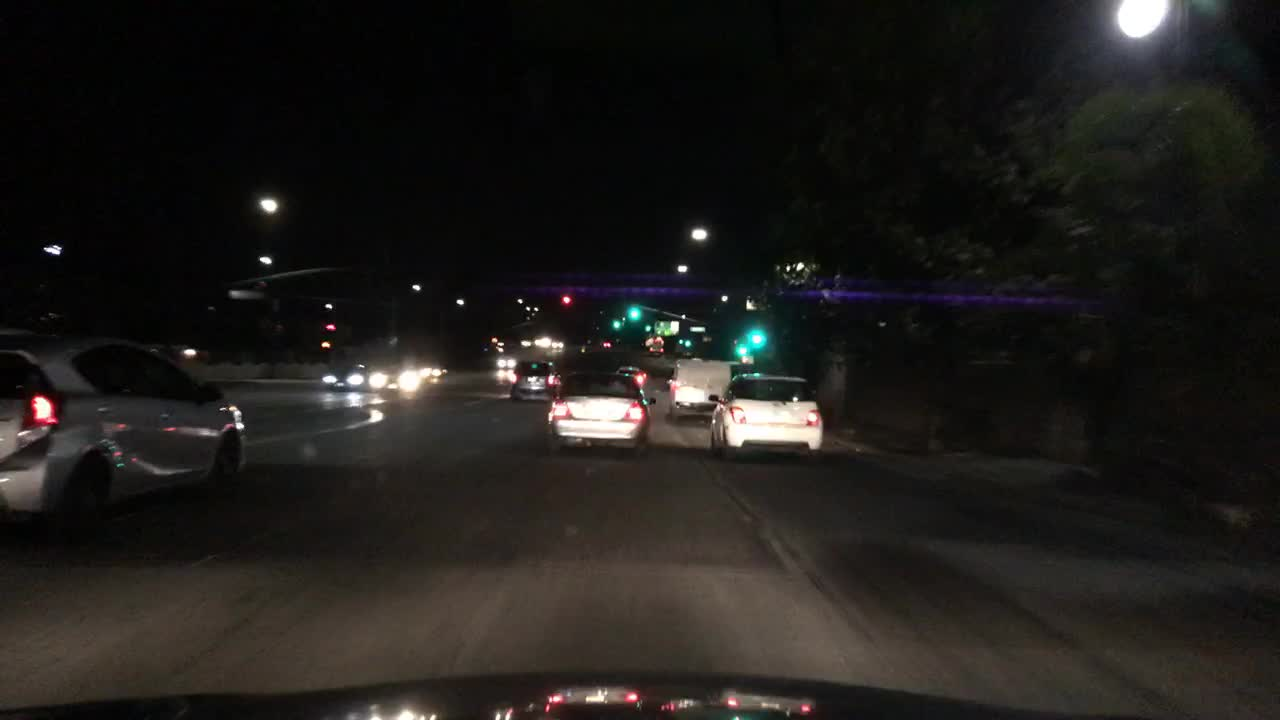car: (0, 327, 249, 544), (706, 372, 823, 459), (544, 369, 657, 457), (665, 356, 731, 427), (507, 356, 563, 404), (369, 365, 423, 391), (323, 361, 369, 389), (614, 363, 647, 385), (496, 354, 517, 372), (425, 362, 447, 379), (647, 337, 666, 356), (482, 336, 503, 352), (532, 336, 552, 347), (550, 339, 564, 348), (600, 339, 612, 348), (520, 339, 533, 346)
traffic light: (748, 329, 766, 343), (737, 343, 748, 357), (628, 306, 640, 318), (562, 292, 572, 305), (614, 318, 622, 330), (325, 322, 334, 330), (684, 340, 691, 348)
traffic sign: (228, 287, 263, 300), (690, 325, 706, 333)
